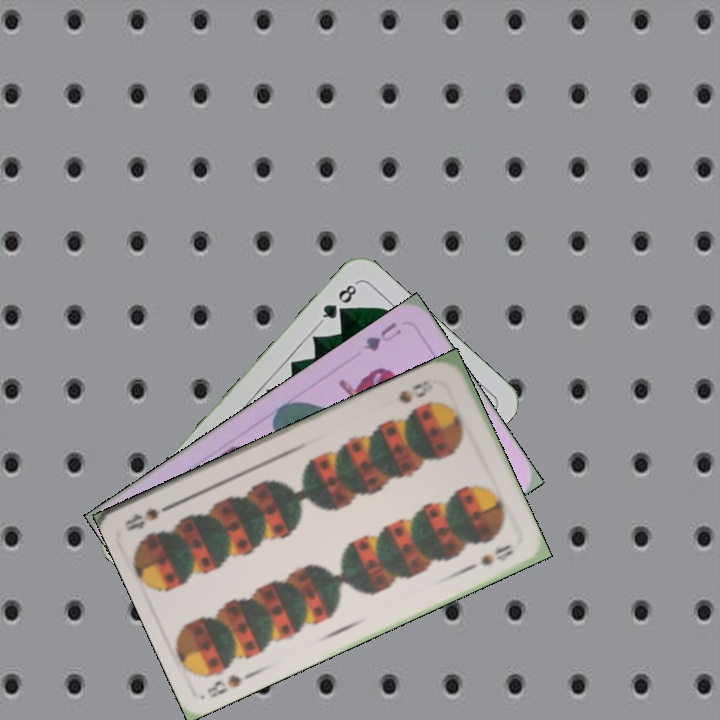G8: (316, 278, 360, 326)
GU: (359, 318, 404, 354)
S8: (203, 670, 245, 701), (394, 376, 431, 407)
